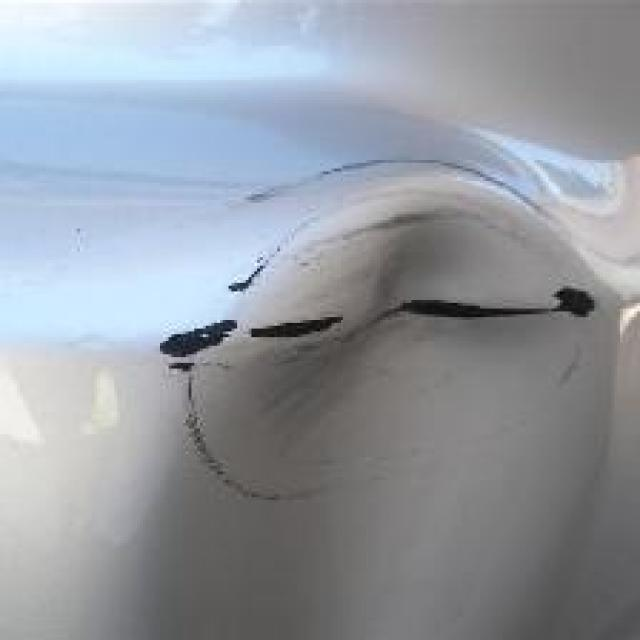damaged: (157, 157, 637, 506)
